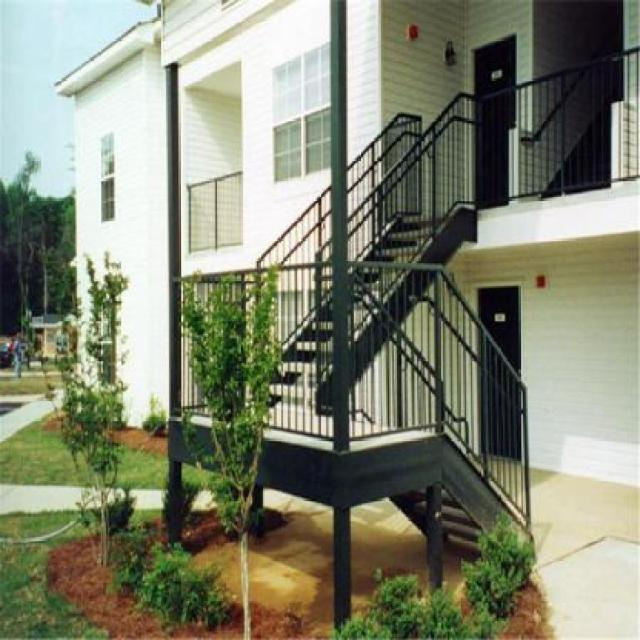stair: (260, 146, 460, 417)
